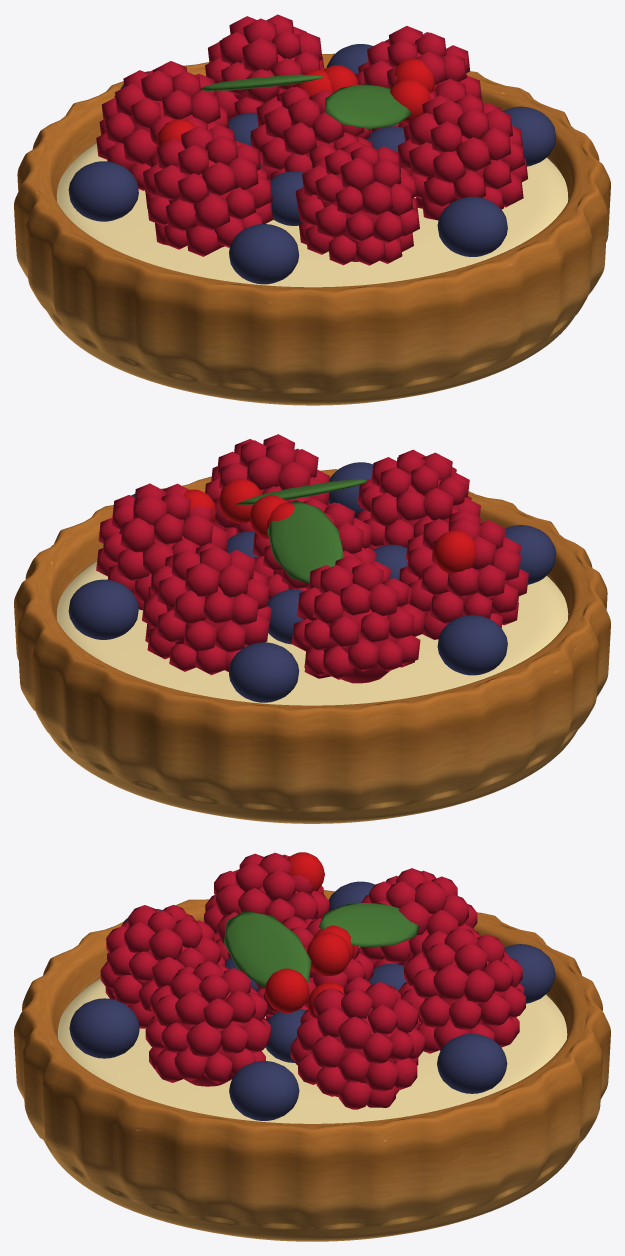
The model's file is tartelette-frutas-vermelhas.glb.
3 renders of one model, top to bottom at view 1: azimuth 30°, elevation 25°; view 2: azimuth 150°, elevation 25°; view 3: azimuth 270°, elevation 25°, orthographic.
Parts seen in each view (by area): view 1: framboesas, massa, creme; view 2: framboesas, massa, creme; view 3: framboesas, massa, creme.
Part boxes in pixels (x1,y1,x2,y2): framboesas: [68, 14, 556, 284]; massa: [14, 53, 610, 405]; creme: [56, 143, 568, 287]; framboesas: [68, 434, 556, 702]; massa: [14, 469, 610, 823]; creme: [56, 561, 568, 705]; framboesas: [69, 852, 555, 1120]; massa: [14, 890, 610, 1241]; creme: [57, 946, 567, 1123].
Bounding box in the file's own units: 0.0933 × 0.0394 × 0.0933.
3 materials, 3 textured.
